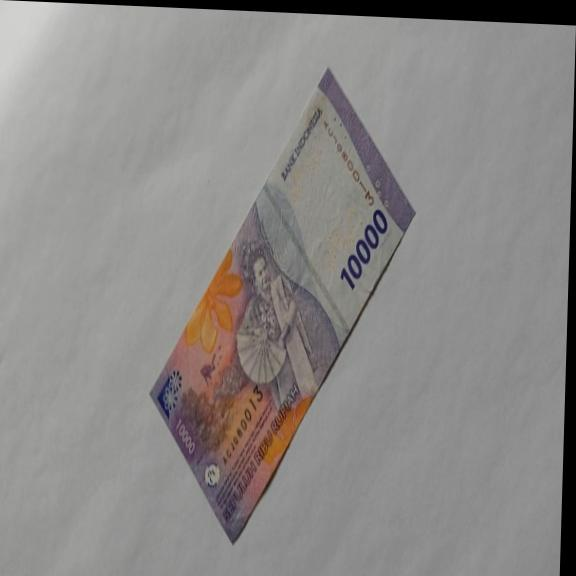Kertas: (144, 58, 421, 552), (339, 205, 388, 294)
